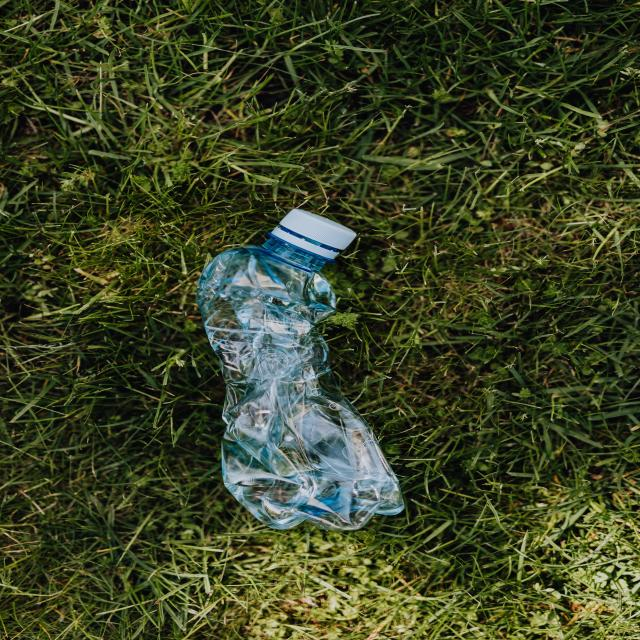bottle: (196, 197, 407, 532)
